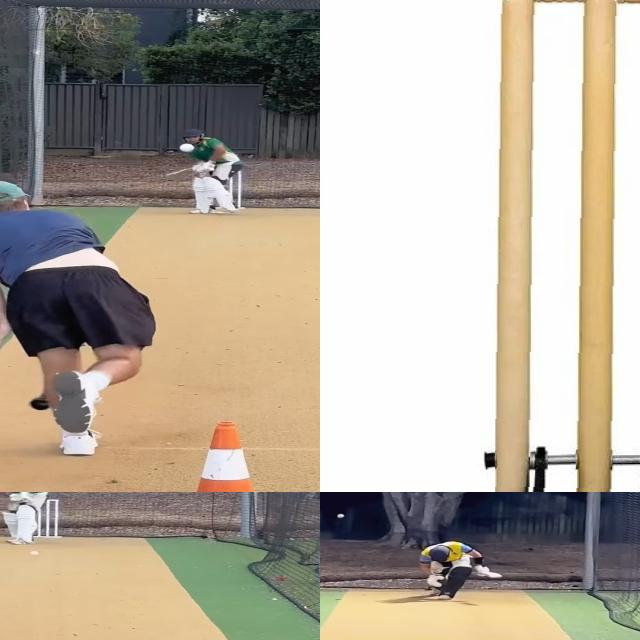Cricket ball: (178, 142, 197, 154), (30, 550, 41, 557), (337, 513, 345, 519)
Stumps: (494, 0, 640, 492), (33, 499, 60, 540)
